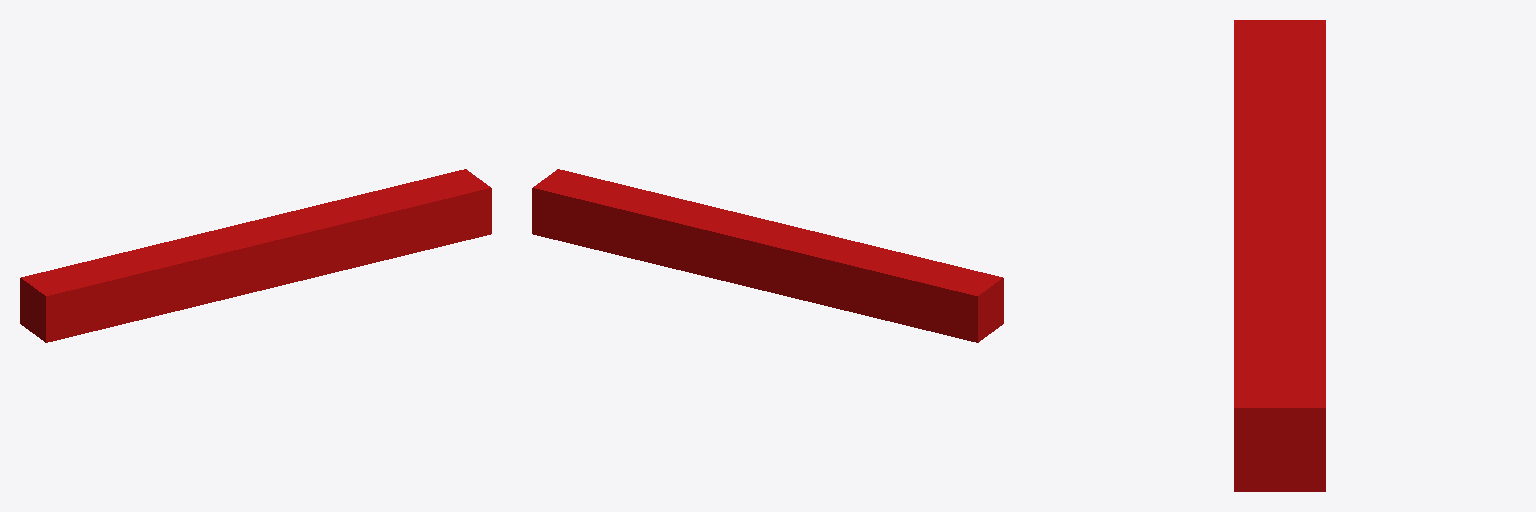
robot.urdf — variable_four_bar_branch:
<?xml version="1.0" ?>
<!-- =================================================================================== -->
<!-- |    This document was autogenerated by xacro from approx_four_bar_branch.xacro   | -->
<!-- |    EDITING THIS FILE BY HAND IS NOT RECOMMENDED                                 | -->
<!-- =================================================================================== -->
<robot name="variable_four_bar_branch">
  <link name="ground"/>
  <link name="Floating Base">
    <inertial>
      <mass value="5.0"/>
      <origin xyz="0. 0. 0."/>
      <inertia ixx="0.1" ixy="0." ixz="0." iyy="0.1" iyz="0." izz="0.1"/>
    </inertial>
  </link>
  <joint name="world_to_base" type="floating">
    <origin rpy="0 0 0" xyz="0 0 0"/>
    <parent link="ground"/>
    <child link="Floating Base"/>
  </joint>
  <link name="link_5">
    <inertial>
      <mass value="3.3"/>
      <origin xyz="0.0 0.0 0.0"/>
      <inertia ixx="0.011253" ixy="0" ixz="0" iyy="0.036203" iyz="0" izz="0.042673"/>
    </inertial>
    <visual>
      <origin rpy="0 0 0" xyz="0.25 0 0"/>
      <geometry>
        <box size="0.5 0.05 0.05"/>
      </geometry>
      <material name="Red">
        <color rgba="0.8 0.1 0.1 1.0"/>
      </material>
    </visual>
  </link>
  <joint independent="true" name="base_to_link_5" type="revolute">
    <parent link="Floating Base"/>
    <child link="link_5"/>
    <origin xyz="0.0 0.0 0.0"/>
    <axis xyz="0 0 1"/>
    <limit effort="30" lower="-10" upper="10" velocity="1.0"/>
  </joint>
  <link name="link_2">
    <inertial>
      <mass value="3.3"/>
      <origin xyz="0.0 0.0 0.0"/>
      <inertia ixx="0.011253" ixy="0" ixz="0" iyy="0.036203" iyz="0" izz="0.042673"/>
    </inertial>
    <visual>
      <origin rpy="0 0 0" xyz="0.25 0 0"/>
      <geometry>
        <box size="0.5 0.05 0.05"/>
      </geometry>
      <material name="Red">
        <color rgba="0.8 0.1 0.1 1.0"/>
      </material>
    </visual>
  </link>
  <joint independent="true" name="base_to_link_2" type="revolute">
    <parent link="Floating Base"/>
    <child link="link_2"/>
    <origin xyz="0.0 0.0 0.0"/>
    <axis xyz="0 0 1"/>
    <limit effort="30" lower="-10" upper="10" velocity="1.0"/>
  </joint>
  <link name="link_17">
    <inertial>
      <mass value="3.3"/>
      <origin xyz="0.0 0.0 0.0"/>
      <inertia ixx="0.011253" ixy="0" ixz="0" iyy="0.036203" iyz="0" izz="0.042673"/>
    </inertial>
    <visual>
      <origin rpy="0 0 0" xyz="0.25 0 0"/>
      <geometry>
        <box size="0.5 0.05 0.05"/>
      </geometry>
      <material name="Red">
        <color rgba="0.8 0.1 0.1 1.0"/>
      </material>
    </visual>
  </link>
  <joint independent="true" name="link_5_to_link_17" type="revolute">
    <parent link="link_5"/>
    <child link="link_17"/>
    <origin xyz="0.0 0.0 0.0"/>
    <axis xyz="0 0 1"/>
    <limit effort="30" lower="-10" upper="10" velocity="1.0"/>
  </joint>
  <link name="link_20">
    <inertial>
      <mass value="3.3"/>
      <origin xyz="0.0 0.0 0.0"/>
      <inertia ixx="0.011253" ixy="0" ixz="0" iyy="0.036203" iyz="0" izz="0.042673"/>
    </inertial>
    <visual>
      <origin rpy="0 0 0" xyz="0.25 0 0"/>
      <geometry>
        <box size="0.5 0.05 0.05"/>
      </geometry>
      <material name="Red">
        <color rgba="0.8 0.1 0.1 1.0"/>
      </material>
    </visual>
  </link>
  <joint independent="true" name="link_17_to_link_20" type="revolute">
    <parent link="link_17"/>
    <child link="link_20"/>
    <origin xyz="0.0 0.0 0.0"/>
    <axis xyz="0 0 1"/>
    <limit effort="30" lower="-10" upper="10" velocity="1.0"/>
  </joint>
  <link name="link_23">
    <inertial>
      <mass value="3.3"/>
      <origin xyz="0.0 0.0 0.0"/>
      <inertia ixx="0.011253" ixy="0" ixz="0" iyy="0.036203" iyz="0" izz="0.042673"/>
    </inertial>
    <visual>
      <origin rpy="0 0 0" xyz="0.25 0 0"/>
      <geometry>
        <box size="0.5 0.05 0.05"/>
      </geometry>
      <material name="Red">
        <color rgba="0.8 0.1 0.1 1.0"/>
      </material>
    </visual>
  </link>
  <joint independent="true" name="link_20_to_link_23" type="revolute">
    <parent link="link_20"/>
    <child link="link_23"/>
    <origin xyz="0.0 0.0 0.0"/>
    <axis xyz="0 0 1"/>
    <limit effort="30" lower="-10" upper="10" velocity="1.0"/>
  </joint>
  <link name="link_8">
    <inertial>
      <mass value="3.3"/>
      <origin xyz="0.0 0.0 0.0"/>
      <inertia ixx="0.011253" ixy="0" ixz="0" iyy="0.036203" iyz="0" izz="0.042673"/>
    </inertial>
    <visual>
      <origin rpy="0 0 0" xyz="0.25 0 0"/>
      <geometry>
        <box size="0.5 0.05 0.05"/>
      </geometry>
      <material name="Red">
        <color rgba="0.8 0.1 0.1 1.0"/>
      </material>
    </visual>
  </link>
  <joint independent="true" name="link_2_to_link_8" type="revolute">
    <parent link="link_2"/>
    <child link="link_8"/>
    <origin xyz="0.0 0.0 0.0"/>
    <axis xyz="0 0 1"/>
    <limit effort="30" lower="-10" upper="10" velocity="1.0"/>
  </joint>
  <link name="link_11">
    <inertial>
      <mass value="3.3"/>
      <origin xyz="0.0 0.0 0.0"/>
      <inertia ixx="0.011253" ixy="0" ixz="0" iyy="0.036203" iyz="0" izz="0.042673"/>
    </inertial>
    <visual>
      <origin rpy="0 0 0" xyz="0.25 0 0"/>
      <geometry>
        <box size="0.5 0.05 0.05"/>
      </geometry>
      <material name="Red">
        <color rgba="0.8 0.1 0.1 1.0"/>
      </material>
    </visual>
  </link>
  <joint independent="true" name="link_8_to_link_11" type="revolute">
    <parent link="link_8"/>
    <child link="link_11"/>
    <origin xyz="0.0 0.0 0.0"/>
    <axis xyz="0 0 1"/>
    <limit effort="30" lower="-10" upper="10" velocity="1.0"/>
  </joint>
  <link name="link_14">
    <inertial>
      <mass value="3.3"/>
      <origin xyz="0.0 0.0 0.0"/>
      <inertia ixx="0.011253" ixy="0" ixz="0" iyy="0.036203" iyz="0" izz="0.042673"/>
    </inertial>
    <visual>
      <origin rpy="0 0 0" xyz="0.25 0 0"/>
      <geometry>
        <box size="0.5 0.05 0.05"/>
      </geometry>
      <material name="Red">
        <color rgba="0.8 0.1 0.1 1.0"/>
      </material>
    </visual>
  </link>
  <joint independent="true" name="link_11_to_link_14" type="revolute">
    <parent link="link_11"/>
    <child link="link_14"/>
    <origin xyz="0.0 0.0 0.0"/>
    <axis xyz="0 0 1"/>
    <limit effort="30" lower="-10" upper="10" velocity="1.0"/>
  </joint>
</robot>

--- Render facts (derived) ---
Views: 3 orthographic renders of the robot side by side, from view 1: azimuth 30°, elevation 25°; view 2: azimuth 150°, elevation 25°; view 3: azimuth 270°, elevation 25°.
Model variable_four_bar_branch with 10 links and 9 joints (8 revolute, 1 floating), rooted at ground, posed every joint at zero.
Links seen in each view (by area): view 1: link_5; view 2: link_5; view 3: link_5.
Boxes of the visible links, <box> form: link_5: <box>20,169,491,342</box>; link_5: <box>532,169,1003,342</box>; link_5: <box>1234,20,1325,491</box>.
Bounding box of the posed robot: 0.5 × 0.05 × 0.05 m (x, y, z).
Geometry: primitives only (box / cylinder / sphere), no mesh files.